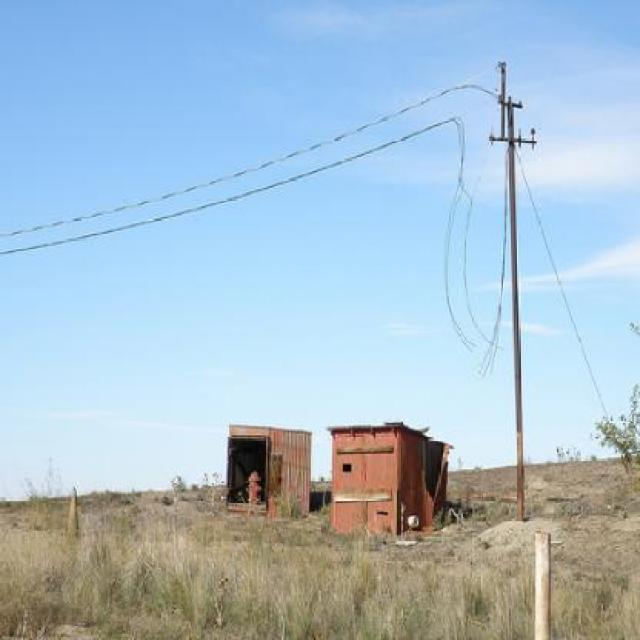pole: (488, 72, 538, 513)
